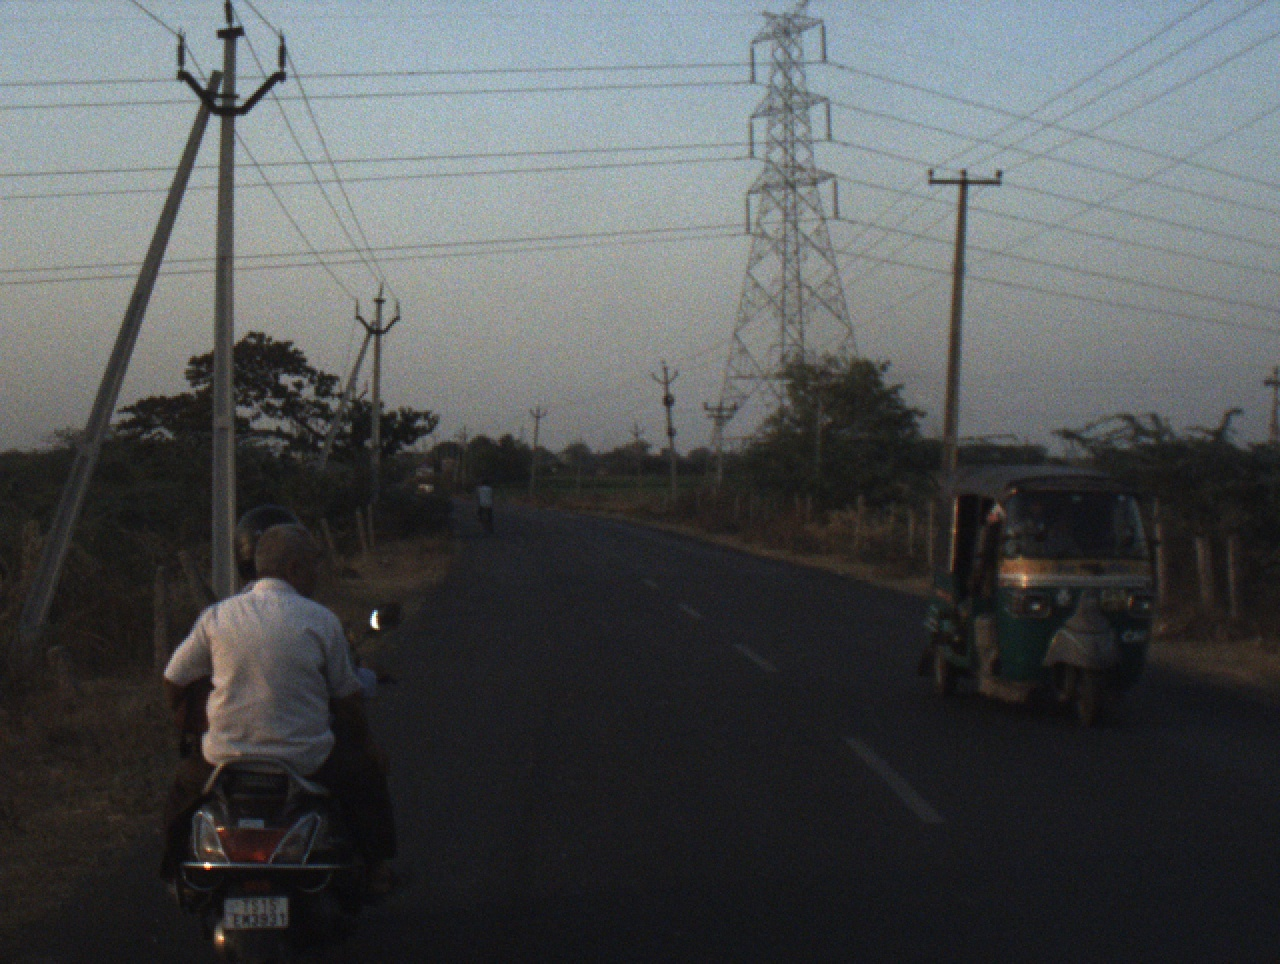autorickshaw: (910, 468, 1168, 738)
bicycle: (479, 503, 494, 535)
motorcycle: (171, 598, 408, 947)
rider: (145, 525, 406, 915), (216, 501, 388, 707), (474, 480, 496, 529)
